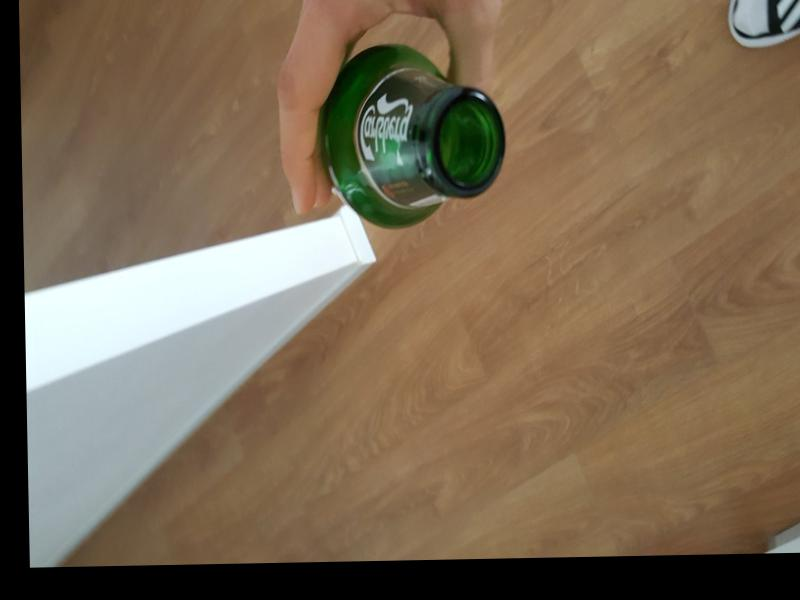Beer: (318, 38, 506, 230)
